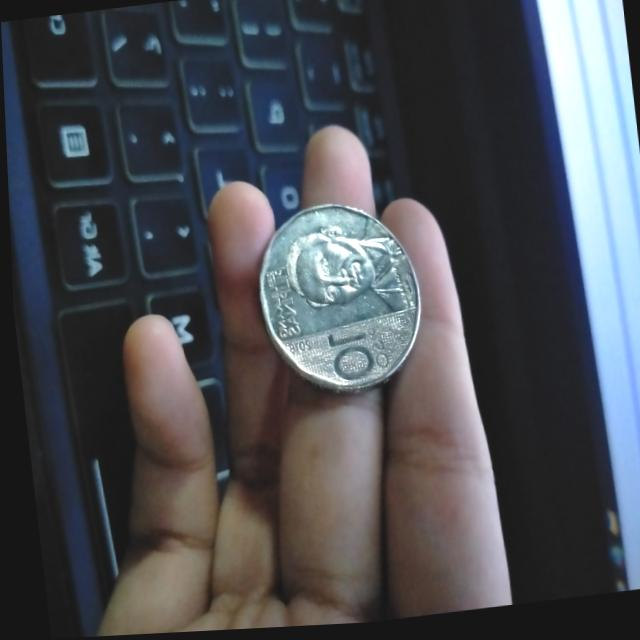10_New_Front: (253, 214, 416, 392)
